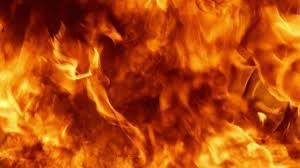fire: (16, 2, 300, 165)
